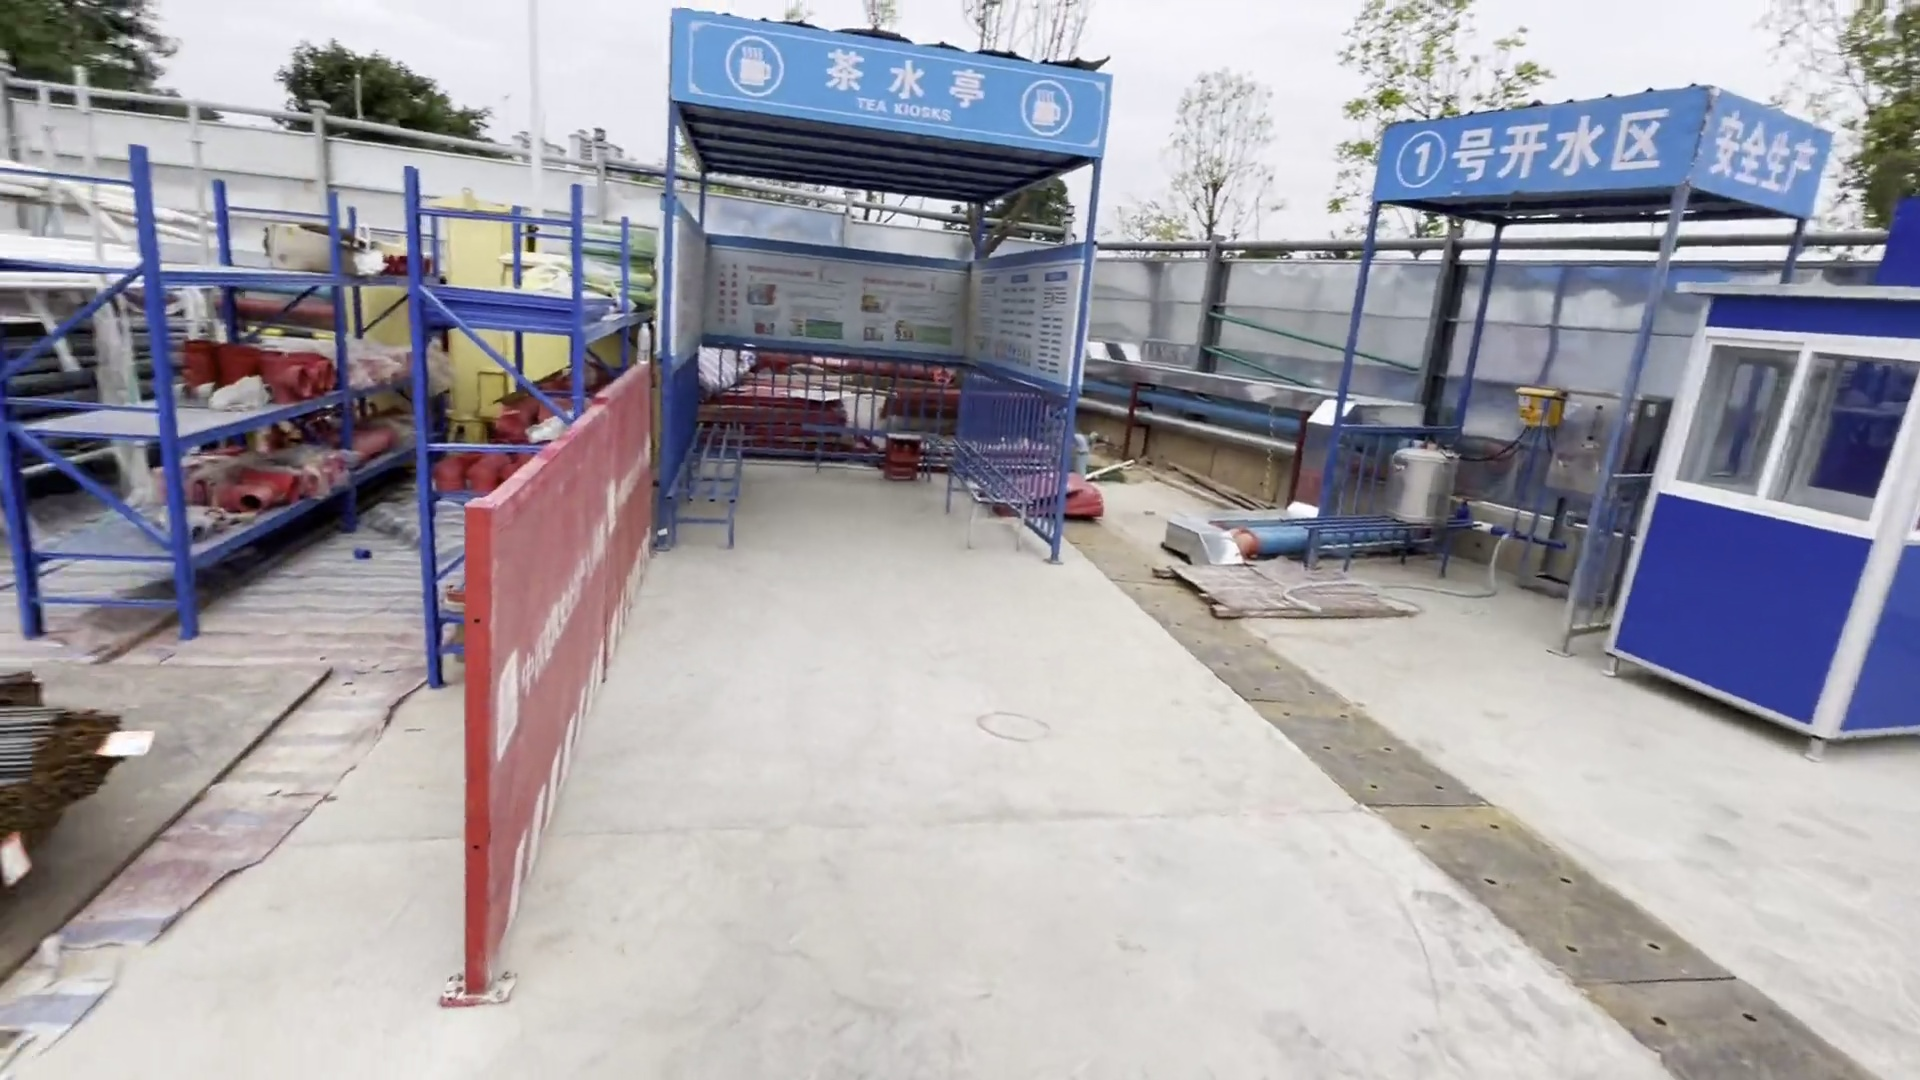ebox: (426, 189, 520, 438), (1514, 386, 1563, 429)
slogan: (1712, 116, 1820, 193)
